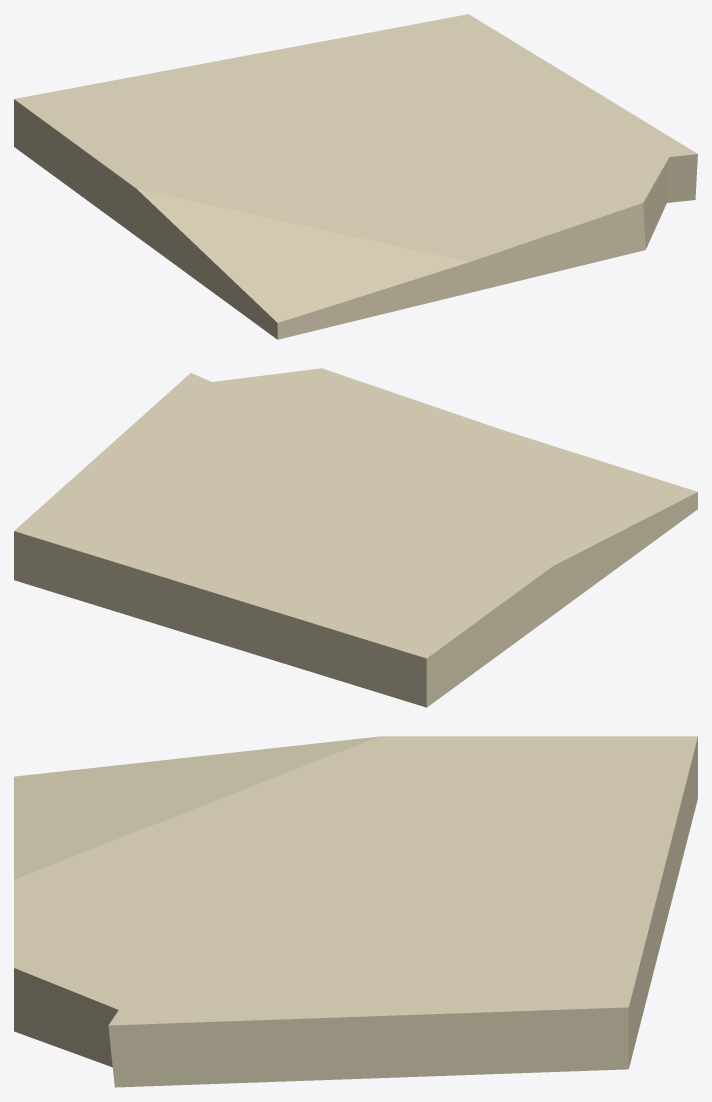
Rendered from Destroy_Plate_8.fbx.
3 views of the same model, one above another, from view 1: azimuth 30°, elevation 25°; view 2: azimuth 150°, elevation 25°; view 3: azimuth 270°, elevation 25° (orthographic). The views are drawn at different scales.
Visible parts, largest first — view 1: Destroy_Plate_8; view 2: Destroy_Plate_8; view 3: Destroy_Plate_8.
Part boxes in pixels (x1,y1,x2,y2): Destroy_Plate_8: (14, 14, 697, 339); Destroy_Plate_8: (14, 368, 697, 707); Destroy_Plate_8: (14, 736, 697, 1087).
Bounding box in the file's own units: 300 × 30 × 300.
